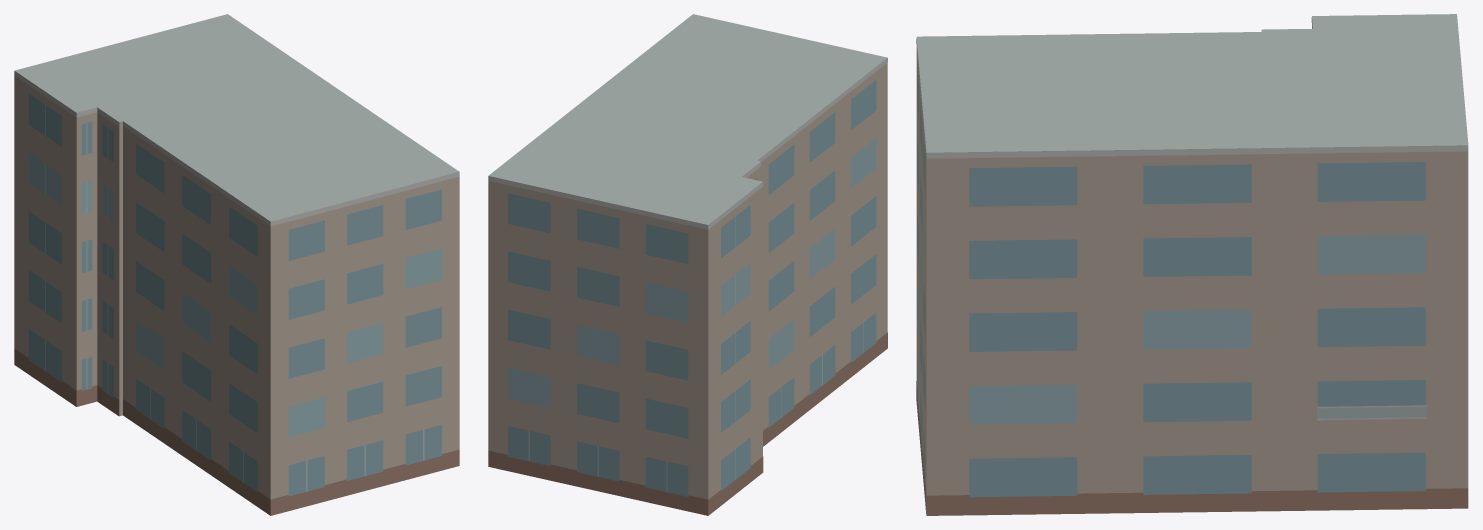
The model's file is survey-upis-32662686.glb.
3 renders of one model, left to right at view 1: azimuth 30°, elevation 25°; view 2: azimuth 150°, elevation 25°; view 3: azimuth 270°, elevation 25°, orthographic. The views are drawn at different scales.
Visible parts, largest first — view 1: survey-upis-32662686.tmp; view 2: survey-upis-32662686.tmp; view 3: survey-upis-32662686.tmp.
Boxes of the visible parts, left/top/right/bottom form: survey-upis-32662686.tmp: left=14, top=14, right=459, bottom=515; survey-upis-32662686.tmp: left=488, top=14, right=887, bottom=515; survey-upis-32662686.tmp: left=916, top=14, right=1468, bottom=515.
Size of the model in its own units: 12.05 by 14.7 by 20.26.
